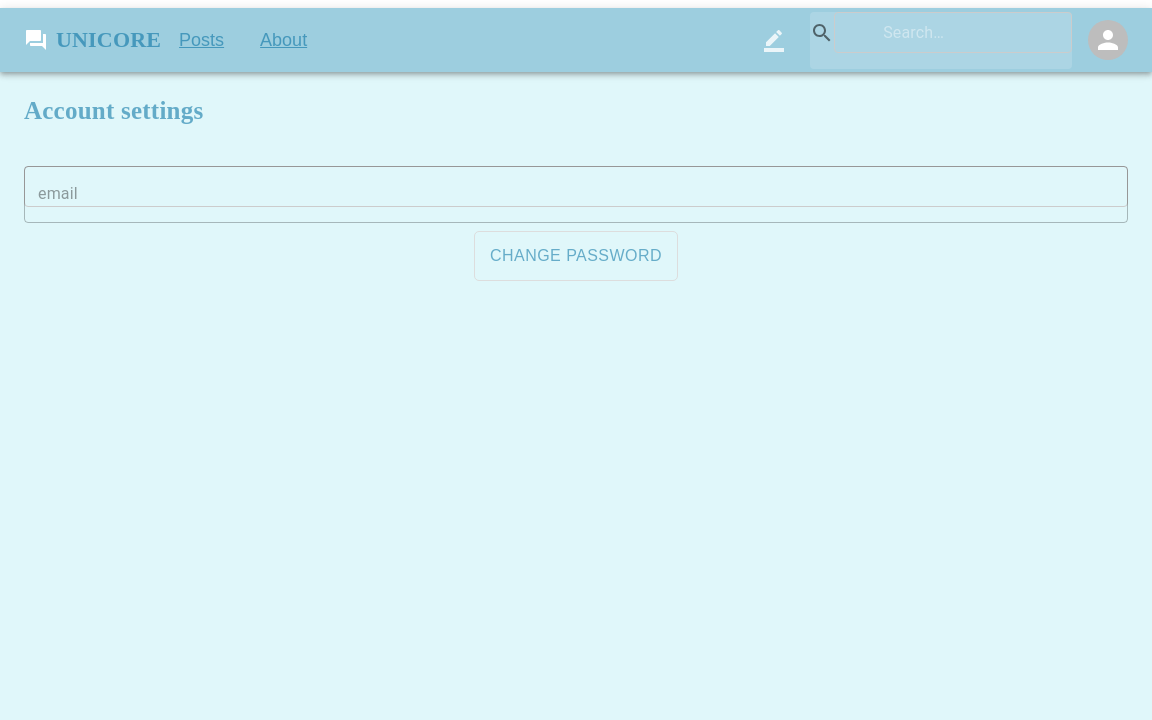
Test: Account Component › opens dialog when 'Change Password' button is clicked
Click the button "Change Password" at coordinates (576, 256), box top-left (474, 230), bottom-right (678, 280)
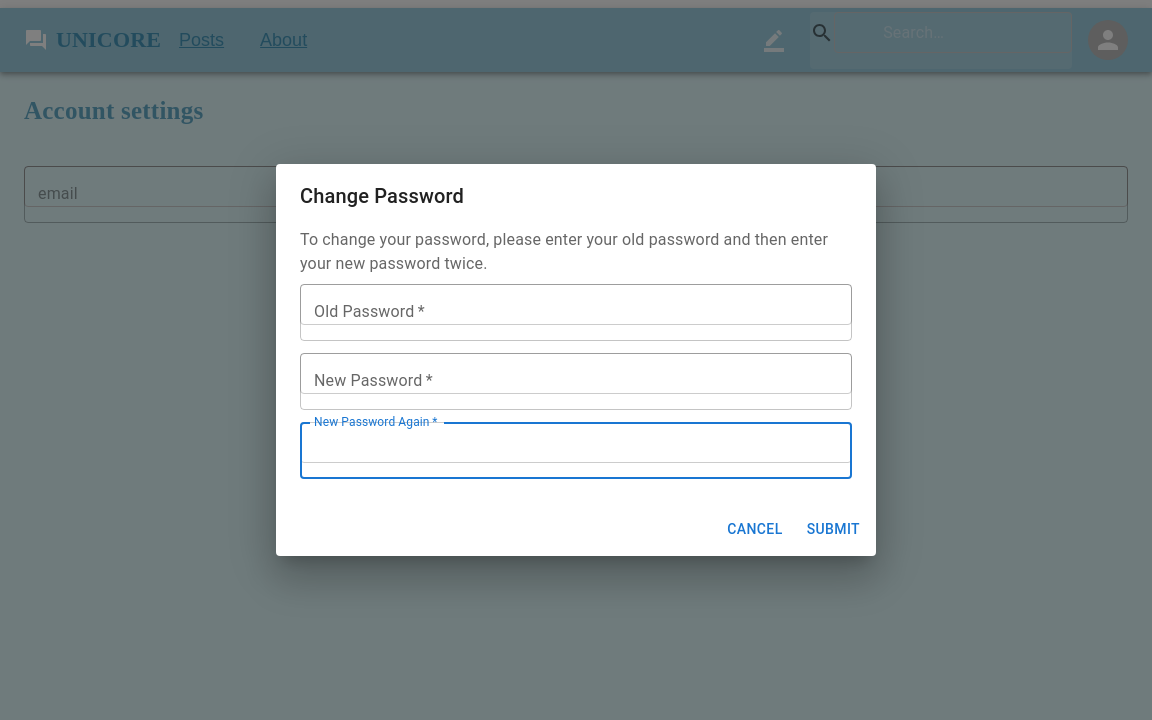
expect the dialog is shown: met, box top-left (276, 164), bottom-right (876, 556)
